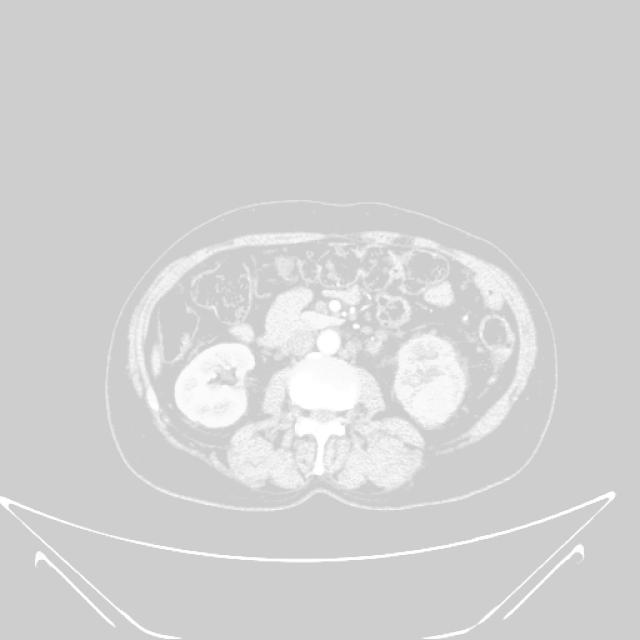TUMOR: (141, 311, 451, 454)
